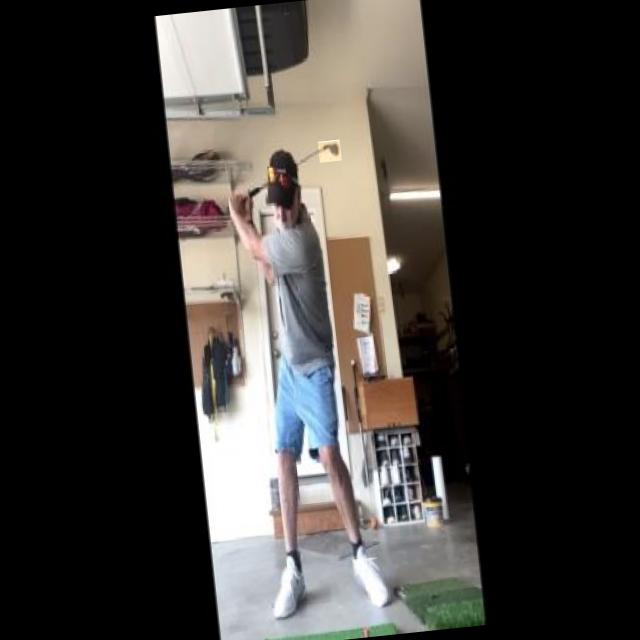club head: (318, 139, 342, 162)
